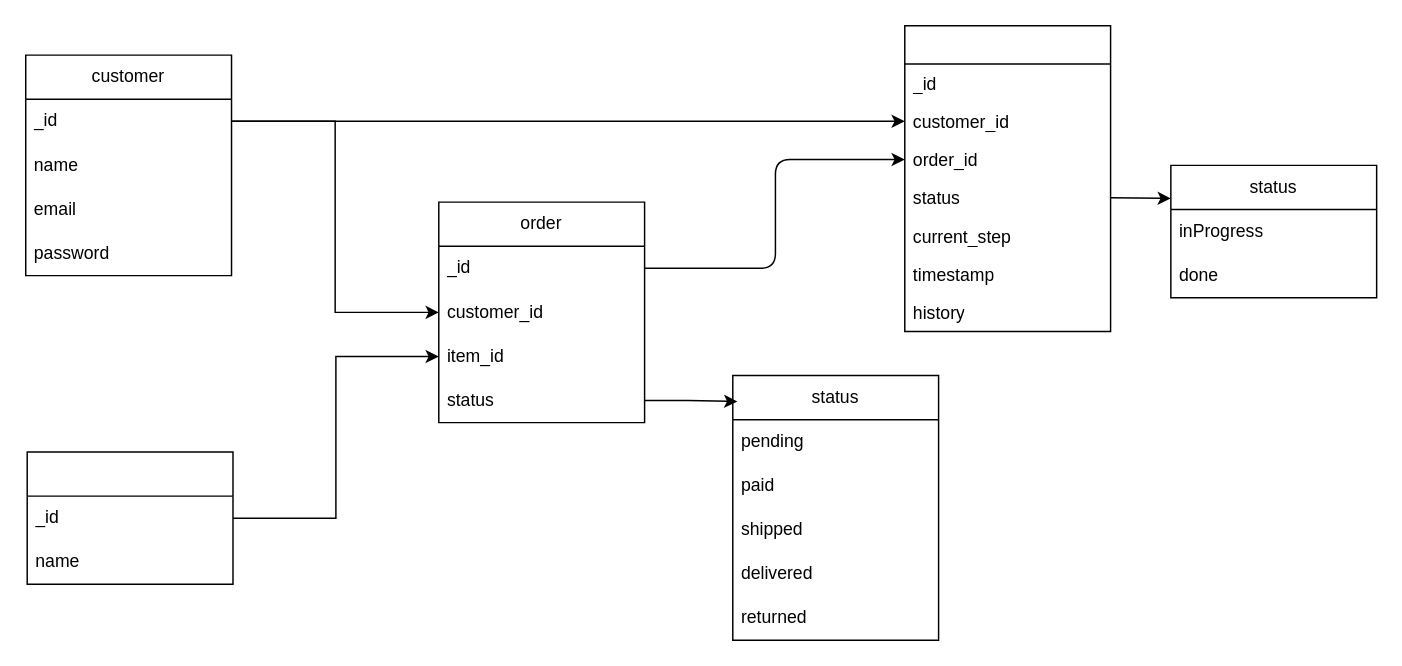
The diagram is 1402 pixels wide and 666 high, and some of its shapes have lost their labels. The box of each missing label's shape, as (x1, y1, x2, y2) in pixels:
chat_history: (903, 24, 1111, 331)
item: (26, 451, 233, 584)
